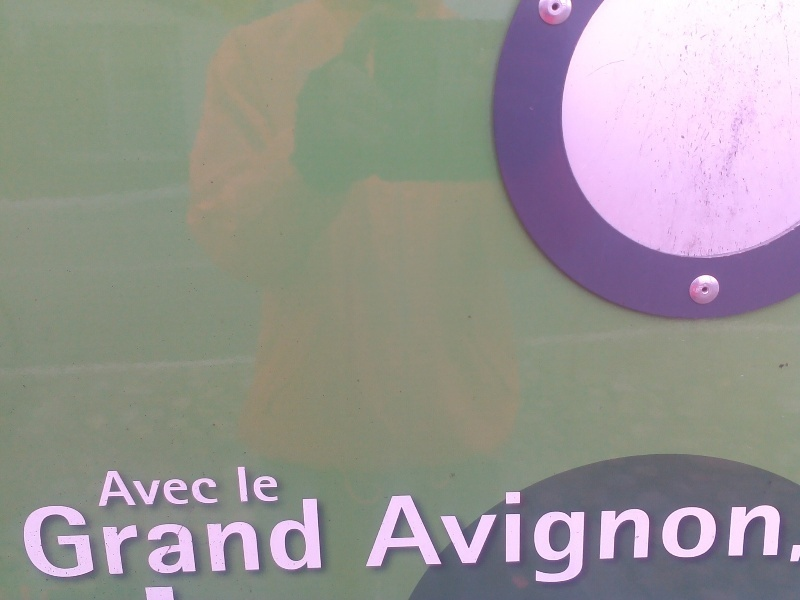text: (369, 485, 384, 584), (385, 485, 400, 584), (401, 485, 416, 584), (417, 485, 432, 584), (433, 485, 448, 584), (449, 485, 464, 584), (465, 485, 480, 584), (481, 485, 496, 584), (497, 485, 512, 584), (513, 485, 528, 584), (529, 485, 544, 584), (545, 485, 560, 584), (561, 485, 576, 584), (577, 485, 592, 584), (593, 485, 608, 584), (609, 485, 624, 584), (625, 485, 640, 584), (641, 485, 656, 584), (657, 485, 672, 584), (673, 485, 688, 584), (689, 485, 704, 584), (705, 485, 720, 584), (721, 485, 736, 584), (737, 485, 752, 584), (753, 485, 768, 584), (769, 485, 784, 584), (33, 498, 48, 580), (49, 498, 64, 580), (65, 498, 80, 580), (81, 498, 96, 580), (97, 498, 112, 580), (113, 498, 128, 580), (129, 498, 144, 580), (145, 498, 160, 580), (161, 498, 176, 580), (177, 498, 192, 580), (193, 498, 208, 580), (209, 498, 224, 580), (225, 498, 240, 580), (241, 498, 256, 580), (257, 498, 272, 580), (273, 498, 288, 580), (289, 498, 304, 580), (305, 498, 320, 580), (21, 498, 32, 580), (113, 469, 128, 507), (129, 469, 144, 507), (145, 469, 160, 507), (161, 469, 176, 507), (177, 469, 192, 507), (193, 469, 208, 507), (241, 467, 256, 504), (257, 467, 272, 504), (209, 469, 218, 507), (273, 467, 281, 504), (105, 469, 112, 507), (321, 498, 324, 580), (367, 485, 368, 584), (238, 467, 240, 504)
